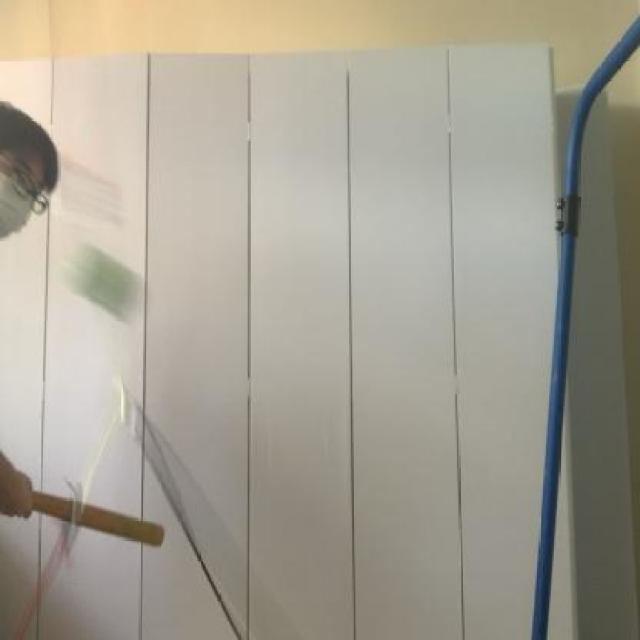baseball: (47, 233, 162, 338)
